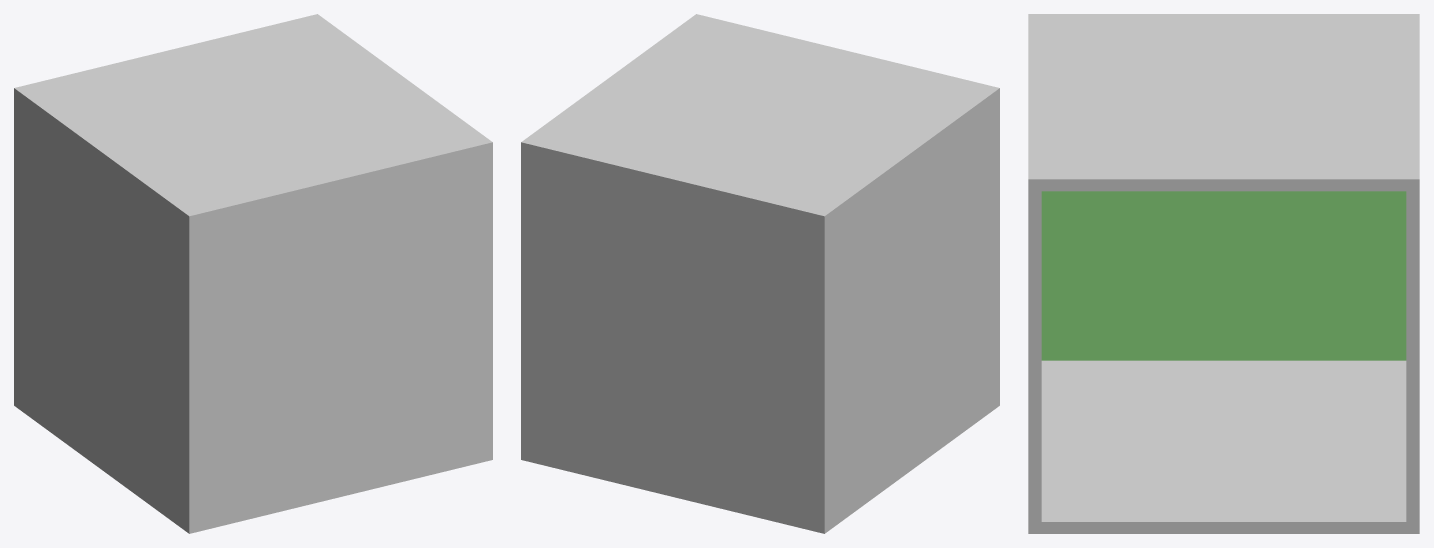
Rendered from cave.glb.
3 views of the same model, side by side, from view 1: azimuth 30°, elevation 25°; view 2: azimuth 150°, elevation 25°; view 3: azimuth 270°, elevation 25° (orthographic). The views are drawn at different scales.
Parts seen in each view (by area): view 1: Cube; view 2: Cube; view 3: Cube.
Part boxes in pixels (x1,y1,x2,y2): Cube: (14,14,492,533); Cube: (521,14,999,533); Cube: (1028,14,1419,533).
Size of the model in its own units: 5 by 5 by 5.
